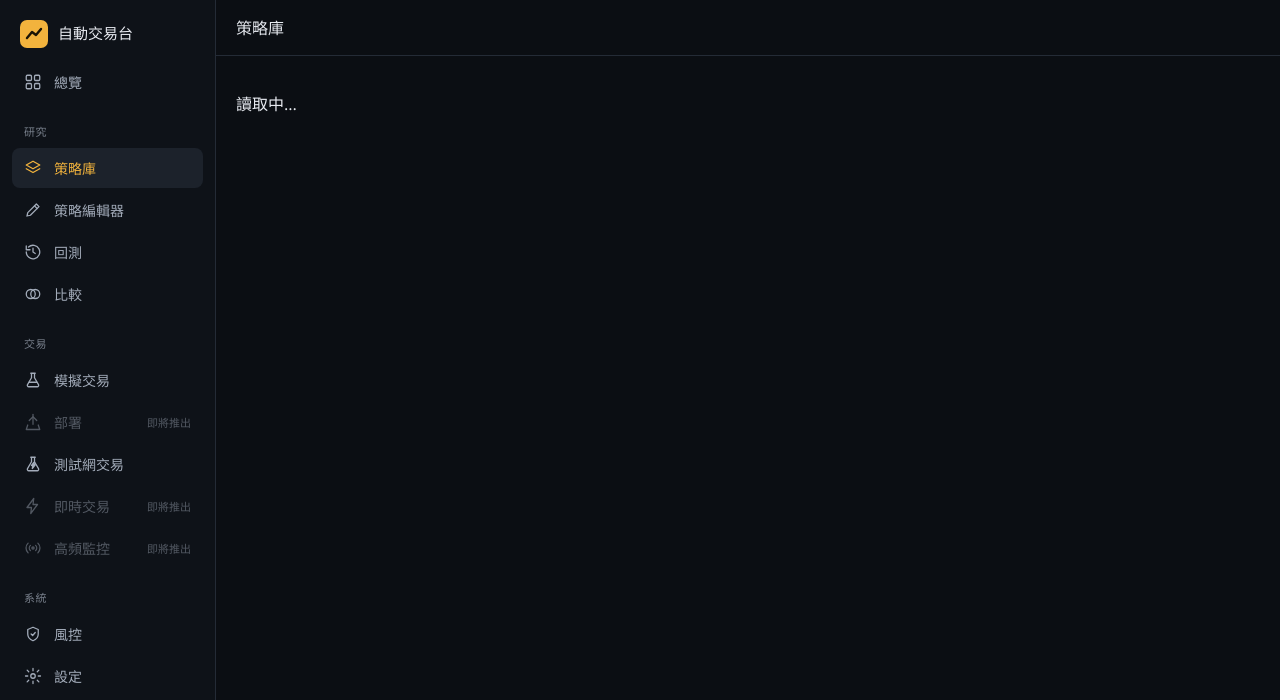
App › 點擊「回測」後切換內容，TopBar標題跟著變、策略庫內容消失
This screenshot has width=1280, height=700.
Click the button "回測". click: click(108, 252)
box: 12,232 -> 203,272
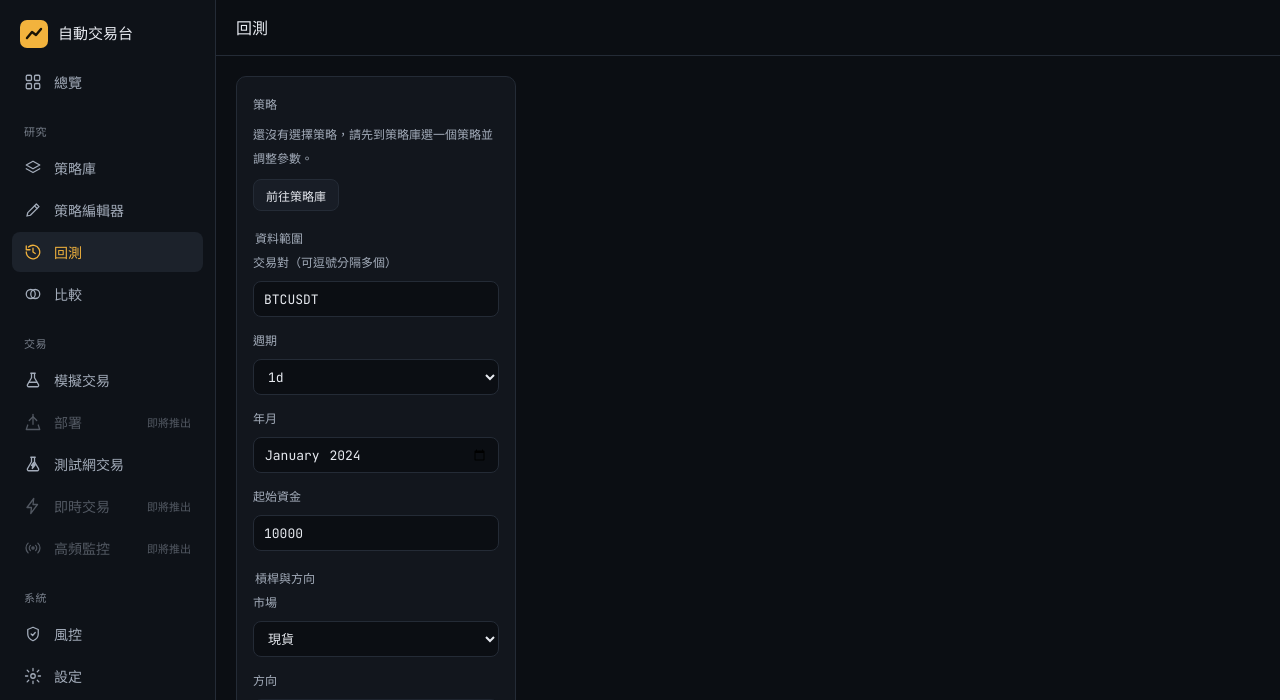
Expected: the heading "回測" is shown, 236,16 -> 268,40
Expected: the text "讀取中…" is gone
